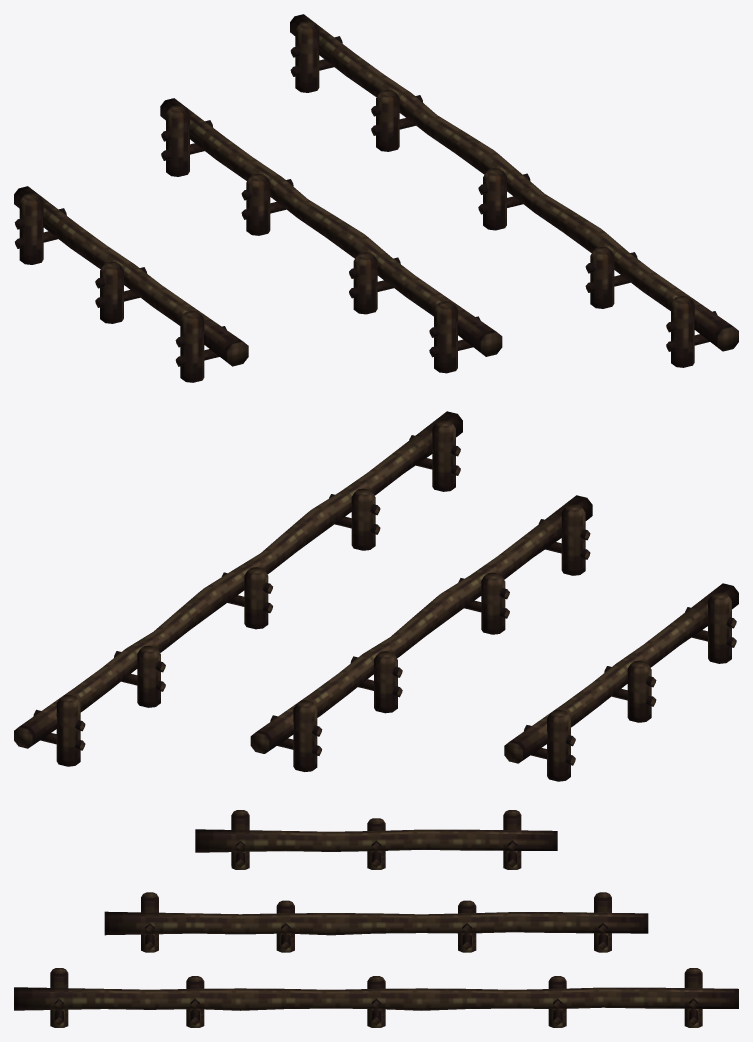
File: EnvMdrMD_Mount_A_Stairs_Wood_A_400W.FBX
3 views of the same model, one above another, from view 1: azimuth 30°, elevation 25°; view 2: azimuth 150°, elevation 25°; view 3: azimuth 270°, elevation 25° (orthographic). The views are drawn at different scales.
Parts seen in each view (by area): view 1: EnvMdrMD_Mount_A_Stairs_Wood_A_800W, EnvMdrMD_Mount_A_Stairs_Wood_A_600W, EnvMdrMD_Mount_A_Stairs_Wood_A_400W; view 2: EnvMdrMD_Mount_A_Stairs_Wood_A_800W, EnvMdrMD_Mount_A_Stairs_Wood_A_600W, EnvMdrMD_Mount_A_Stairs_Wood_A_400W; view 3: EnvMdrMD_Mount_A_Stairs_Wood_A_800W, EnvMdrMD_Mount_A_Stairs_Wood_A_600W, EnvMdrMD_Mount_A_Stairs_Wood_A_400W.
Boxes of the visible parts, box(x1,y1,x2,y2) form: EnvMdrMD_Mount_A_Stairs_Wood_A_800W: box(290, 14, 738, 367); EnvMdrMD_Mount_A_Stairs_Wood_A_600W: box(160, 98, 502, 373); EnvMdrMD_Mount_A_Stairs_Wood_A_400W: box(14, 186, 248, 382); EnvMdrMD_Mount_A_Stairs_Wood_A_800W: box(14, 411, 462, 766); EnvMdrMD_Mount_A_Stairs_Wood_A_600W: box(250, 495, 592, 771); EnvMdrMD_Mount_A_Stairs_Wood_A_400W: box(504, 583, 738, 781); EnvMdrMD_Mount_A_Stairs_Wood_A_800W: box(14, 968, 738, 1027); EnvMdrMD_Mount_A_Stairs_Wood_A_600W: box(104, 892, 648, 952); EnvMdrMD_Mount_A_Stairs_Wood_A_400W: box(195, 810, 557, 869).
Size of the model in its own units: 467 by 65 by 800.
